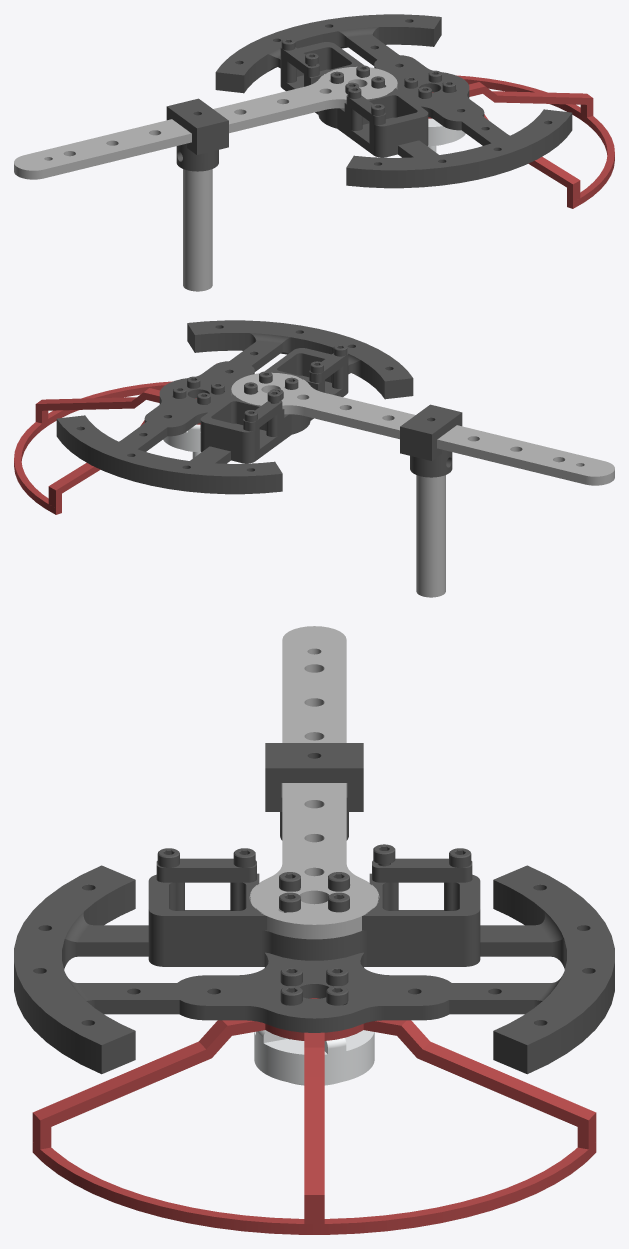
File: down_arm.dae
3 renders of one model, top to bottom at view 1: azimuth 30°, elevation 25°; view 2: azimuth 150°, elevation 25°; view 3: azimuth 270°, elevation 25°, orthographic. The views are drawn at different scales.
Visible parts, largest first — view 1: Shape_IndexedFaceSet.020; view 2: Shape_IndexedFaceSet.020; view 3: Shape_IndexedFaceSet.020.
Part boxes in pixels (box(x1,y1,x2,y2)): Shape_IndexedFaceSet.020: box(14, 14, 614, 291); Shape_IndexedFaceSet.020: box(14, 320, 614, 597); Shape_IndexedFaceSet.020: box(14, 626, 614, 1234).
Size of the model in its own units: 0.269 by 0.1498 by 0.081.
